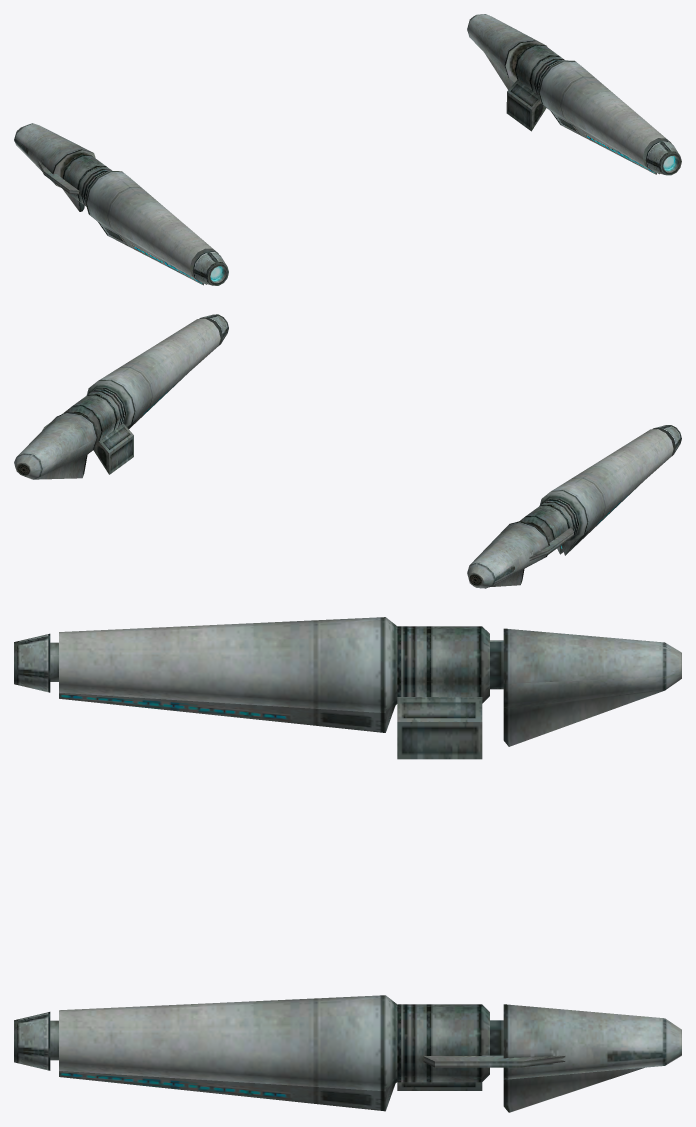
The model's file is kse_firespray_weapon1_s02_l0.fbx.
3 renders of one model, top to bottom at view 1: azimuth 30°, elevation 25°; view 2: azimuth 150°, elevation 25°; view 3: azimuth 270°, elevation 25°, orthographic. The views are drawn at different scales.
Parts seen in each view (by area): view 1: mesh_node; view 2: mesh_node; view 3: mesh_node.
Boxes of the visible parts, x1,y1,x2,y2 form: mesh_node: (14,14,681,285); mesh_node: (14,314,681,588); mesh_node: (14,617,681,1112).
Size of the model in its own units: 4.2 by 0.5505 by 2.82.
Materials: 1 (1 with a texture image).
